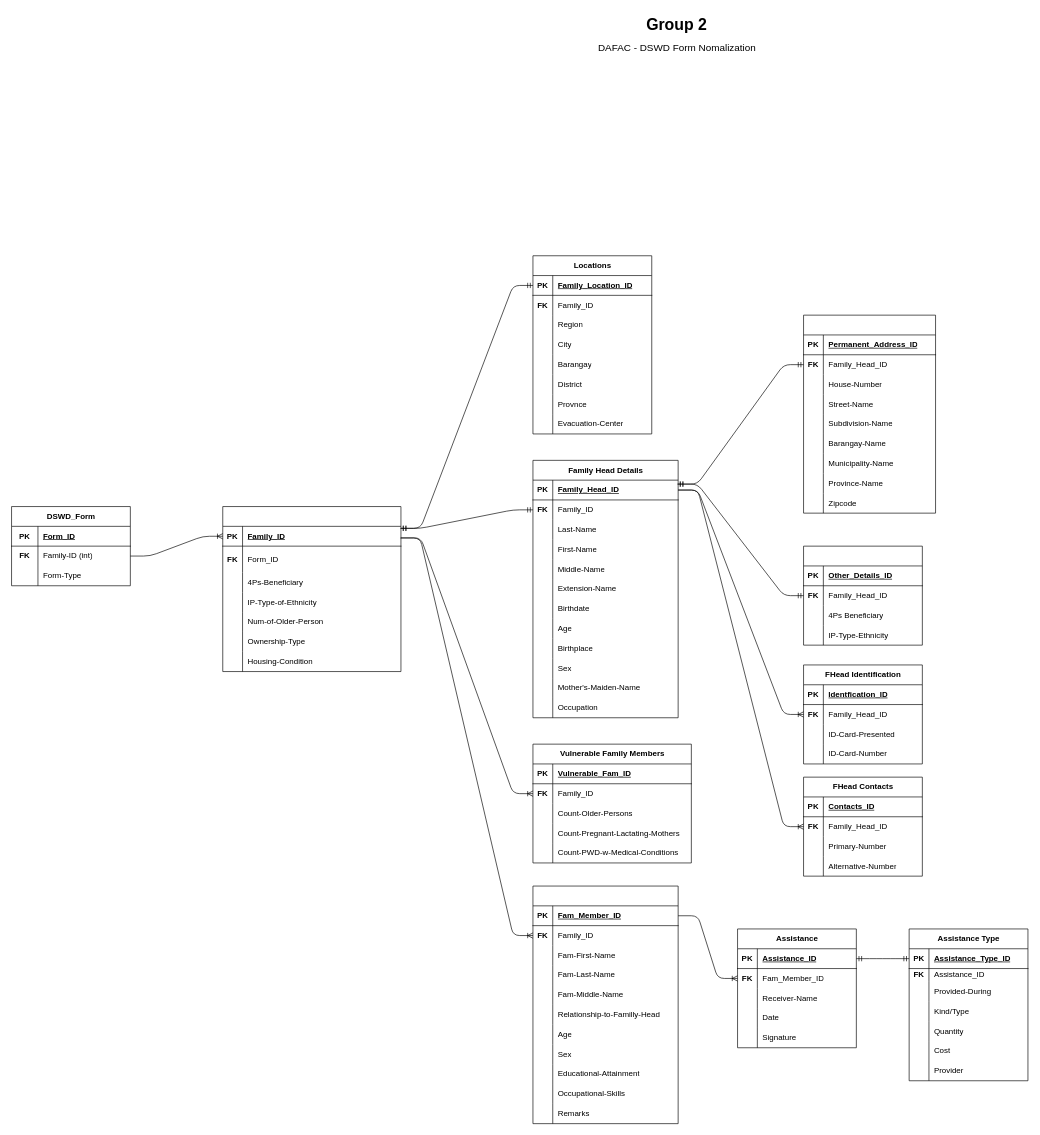
Image size: 1040x1135. Some labels were removed from this diagram. Each missing label, with the box of its shape:
Families: (222, 506, 401, 672)
Family Members: (532, 885, 678, 1124)
FHead Other Details: (803, 545, 922, 645)
FHead_Permanent Address: (803, 314, 936, 513)
